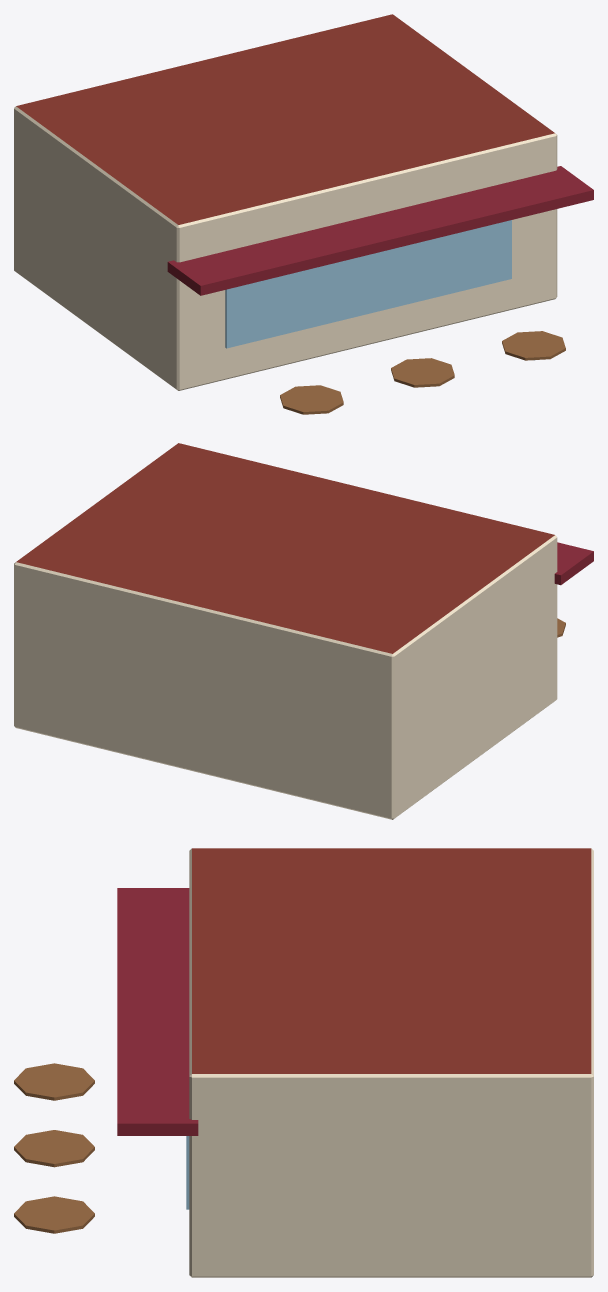
File: canteen.fbx
The picture shows the model from 3 angles, top to bottom: view 1: azimuth 30°, elevation 25°; view 2: azimuth 150°, elevation 25°; view 3: azimuth 270°, elevation 25°; orthographic projection. The views are drawn at different scales.
Parts seen in each view (by area): view 1: canteen; view 2: canteen; view 3: canteen.
Part boxes in pixels (x1,y1,x2,y2): canteen: (14, 14, 593, 414); canteen: (14, 443, 593, 819); canteen: (14, 848, 593, 1277).
Bounding box in the file's own units: 12.4 × 5 × 12.9.
